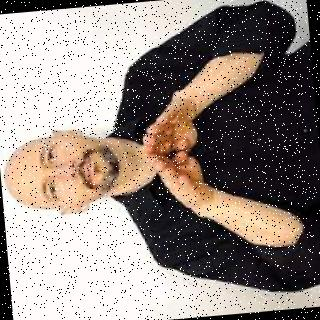House: (128, 79, 218, 206)
